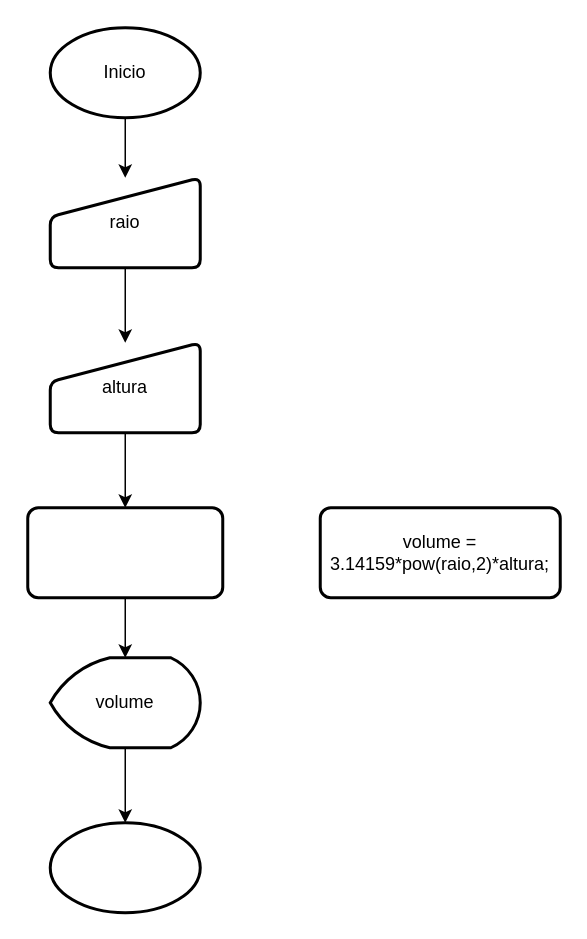
This 587x939 diagram has some shape labels left out. Here are the shapes that lost their labels. From the top down, the centre of each, then its label:
At (125,552): "volume = 3.14159*raio^2*altura;".
At (124,867): "Fim".
